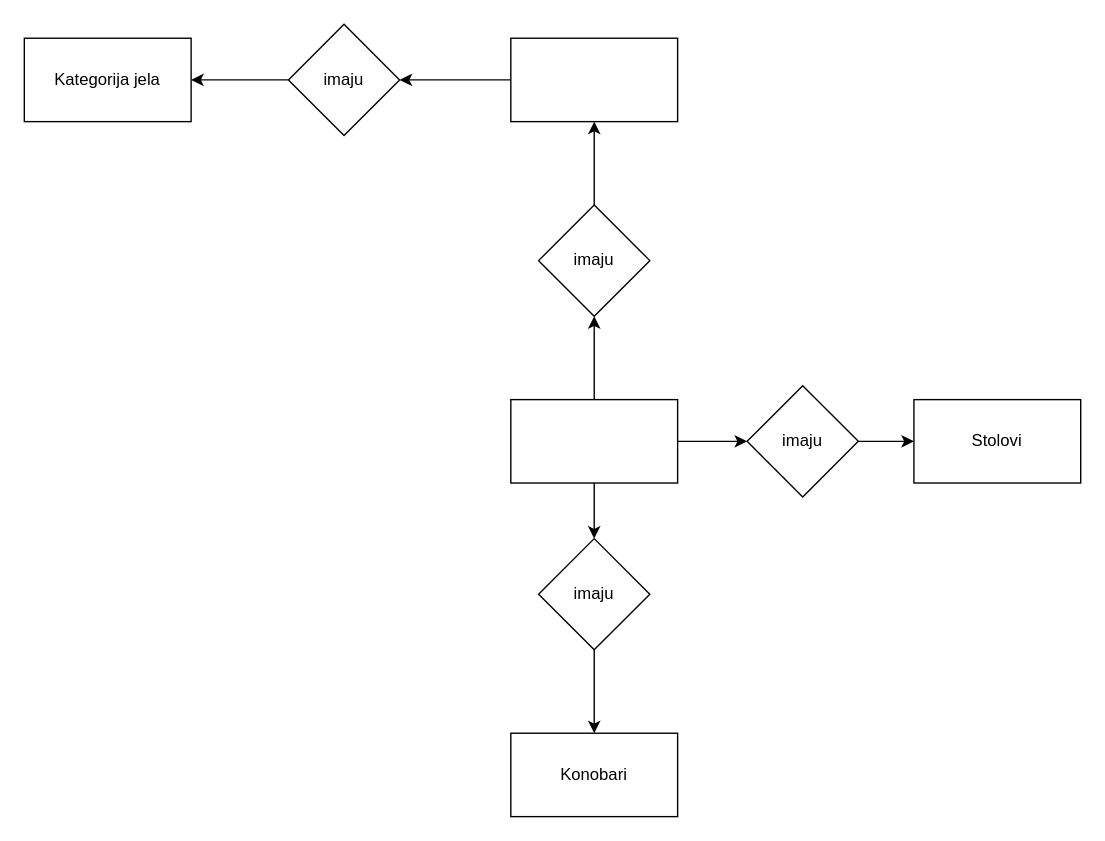
This 1105x841 diagram has some shape labels left out. The shapes that lost their labels are listed below. From the top down, each one's box as (x1, y1, x2, y2) in pixels, then its label:
(509, 37, 678, 122): Jela
(509, 398, 678, 483): Narudzbe
